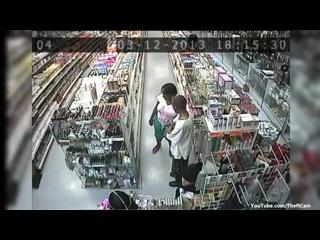Normal: (165, 95, 194, 188), (148, 83, 178, 155)
